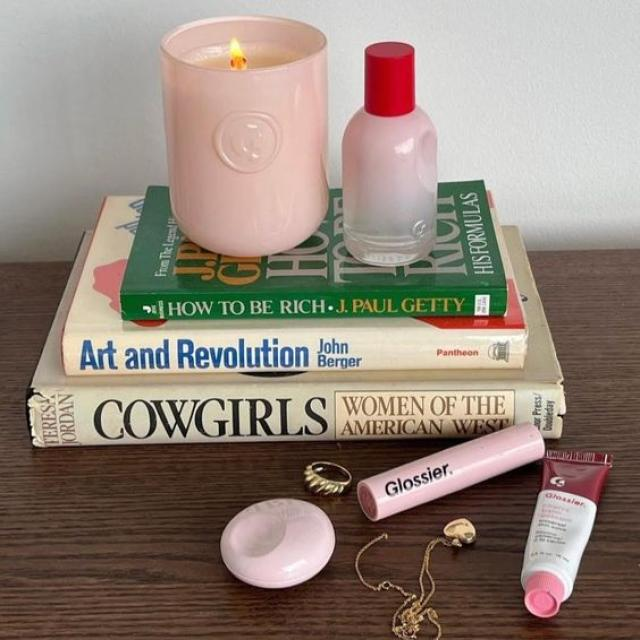book: (31, 382, 562, 446), (67, 330, 527, 377), (121, 295, 507, 318)
candle: (162, 16, 328, 256)
